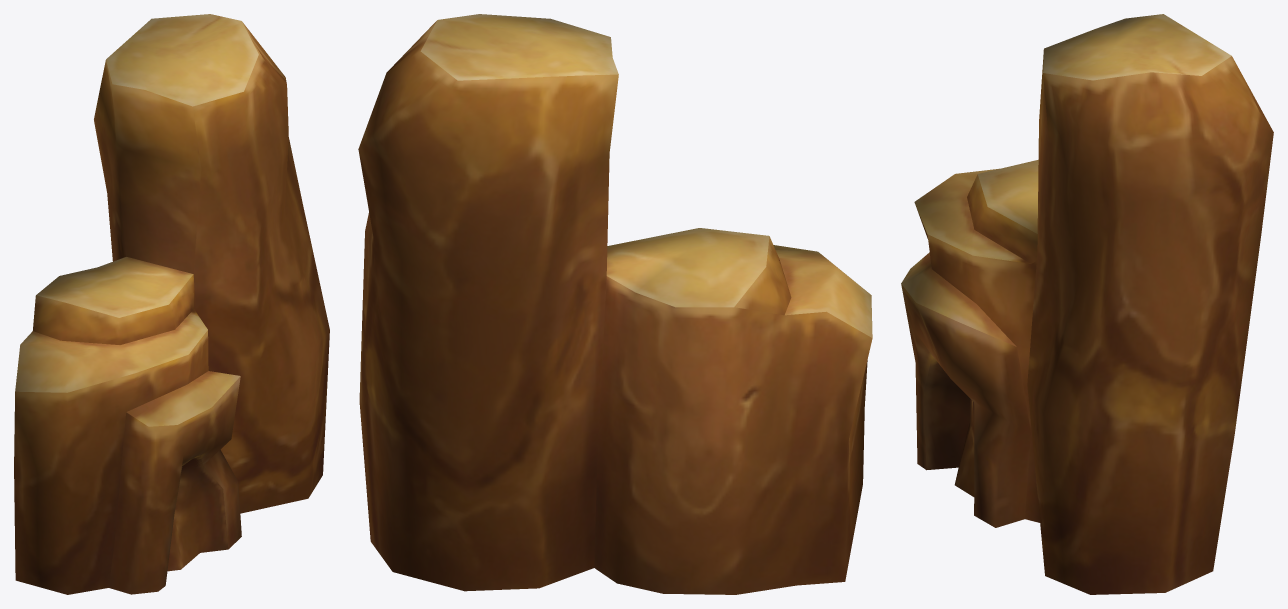
The model's file is Stage_ShaMo_ShanShi08.FBX.
3 views of the same model, side by side, from view 1: azimuth 30°, elevation 25°; view 2: azimuth 150°, elevation 25°; view 3: azimuth 270°, elevation 25° (orthographic). The views are drawn at different scales.
Parts seen in each view (by area): view 1: Stage_ShaMo_ShanShi08; view 2: Stage_ShaMo_ShanShi08; view 3: Stage_ShaMo_ShanShi08.
Part boxes in pixels (x1=…): Stage_ShaMo_ShanShi08: x1=14, y1=14, x2=329, y2=594; Stage_ShaMo_ShanShi08: x1=358, y1=14, x2=872, y2=594; Stage_ShaMo_ShanShi08: x1=901, y1=14, x2=1273, y2=594.
Size of the model in its own units: 649 by 778 by 532.
